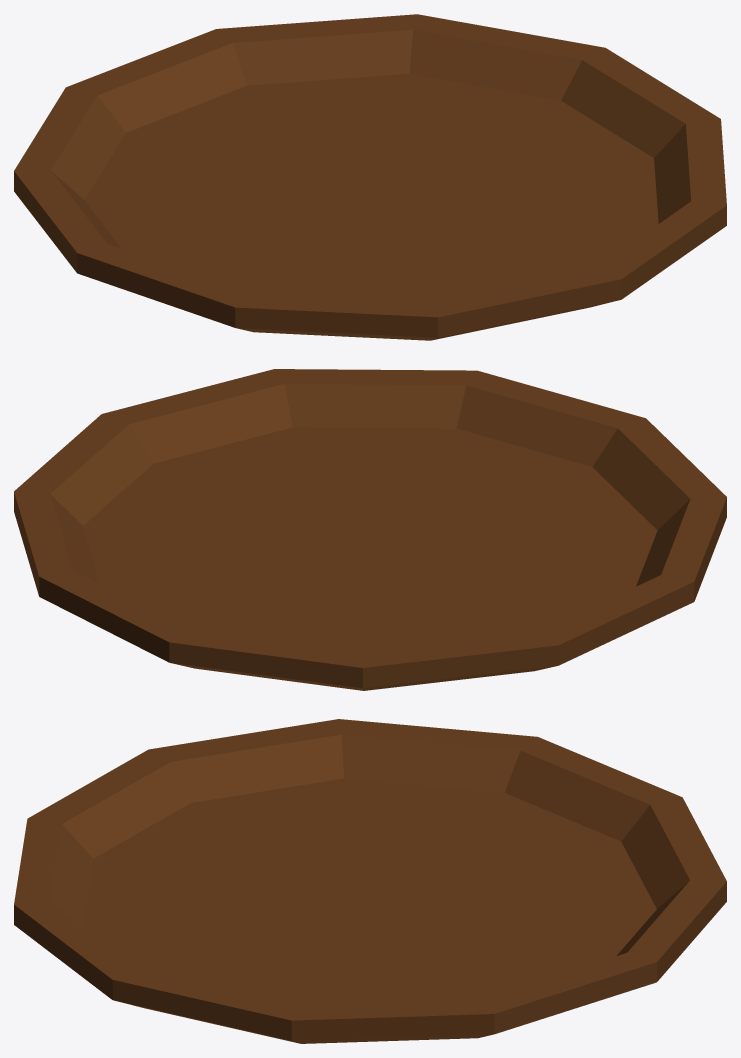
Rendered from plate.glb.
The picture shows the model from 3 angles, top to bottom: view 1: azimuth 30°, elevation 25°; view 2: azimuth 150°, elevation 25°; view 3: azimuth 270°, elevation 25°; orthographic projection.
Visible parts, largest first — view 1: Plate Wood; view 2: Plate Wood; view 3: Plate Wood.
Boxes of the visible parts, x1=… form: Plate Wood: x1=14, y1=14, x2=726, y2=340; Plate Wood: x1=14, y1=369, x2=726, y2=690; Plate Wood: x1=14, y1=719, x2=726, y2=1043.
Size of the model in its own units: 1.05 by 0.1034 by 1.05.
